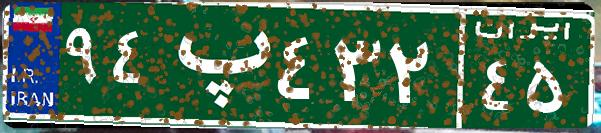2: (385, 28, 445, 110)
3: (330, 28, 385, 110)
4: (273, 28, 330, 110), (475, 38, 525, 113), (110, 28, 158, 105)
5: (525, 38, 570, 115)
9: (57, 26, 110, 107)
پ: (158, 15, 273, 115)
